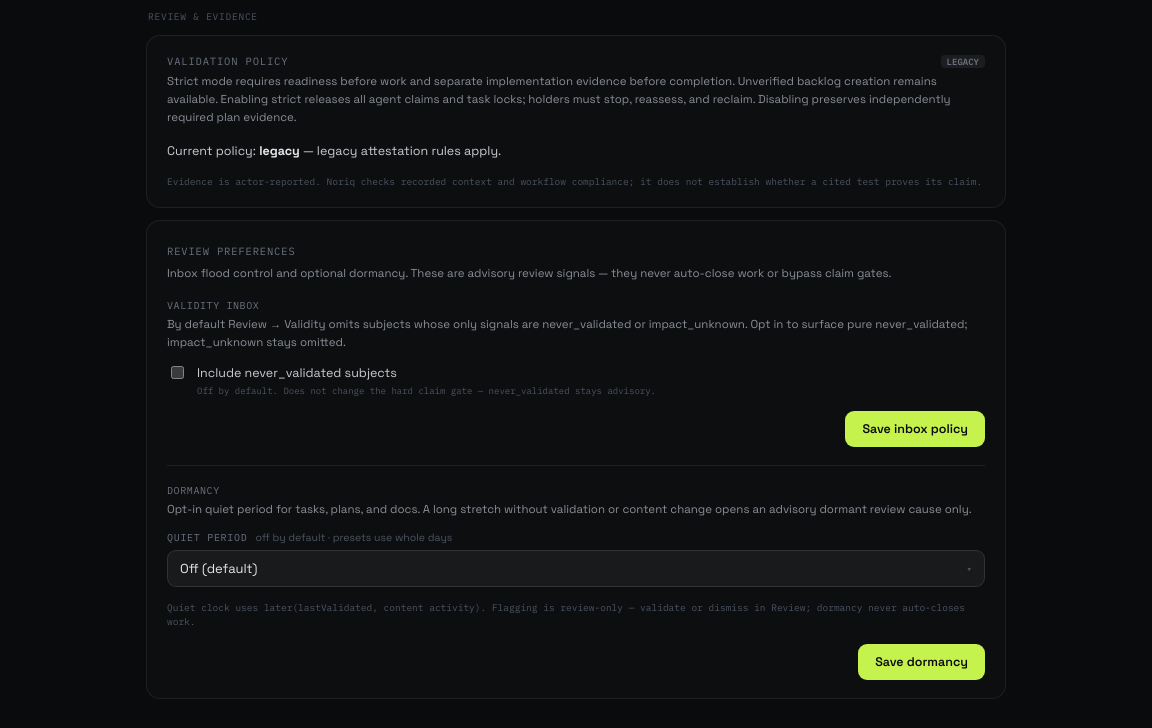
ProjectSettingsView (PLNR-401) › saves inboxIncludeNeverValidated via the existing meta PATCH (PLNR-597)
(page scrolled)
Click the checkbox named "Include never_validated in Validity inbox": (178, 372) top-left (171, 366), bottom-right (184, 379)
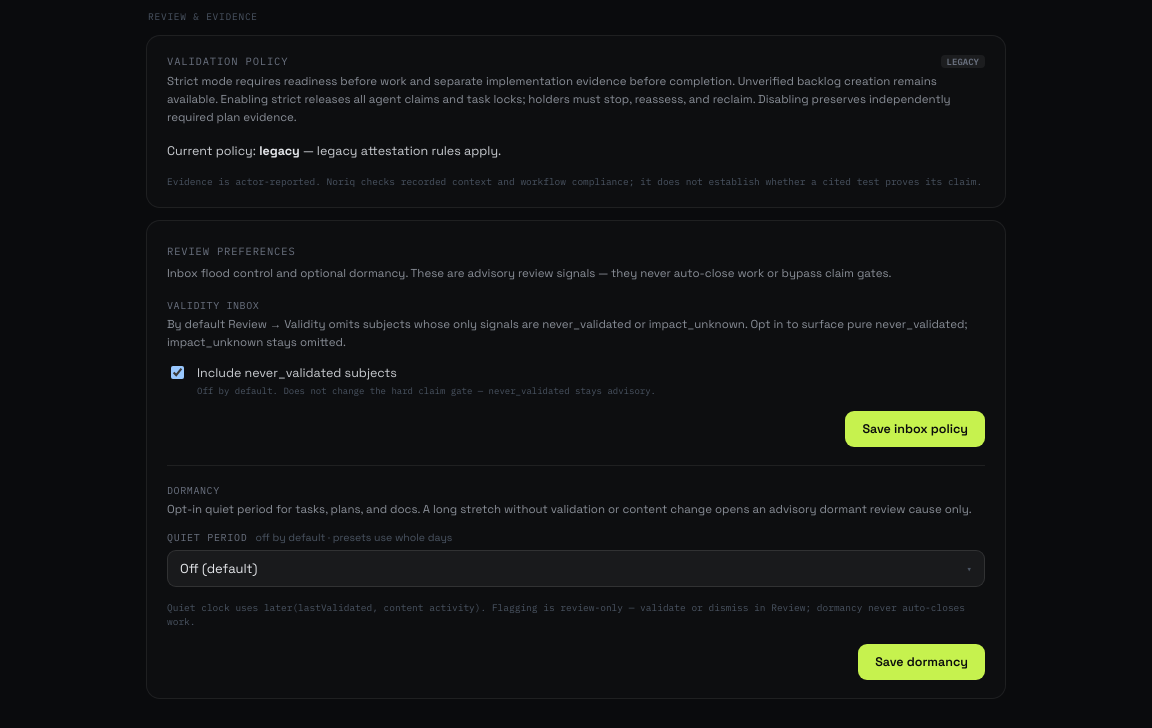
Click the button "Save inbox policy": (915, 429) top-left (845, 411), bottom-right (985, 447)
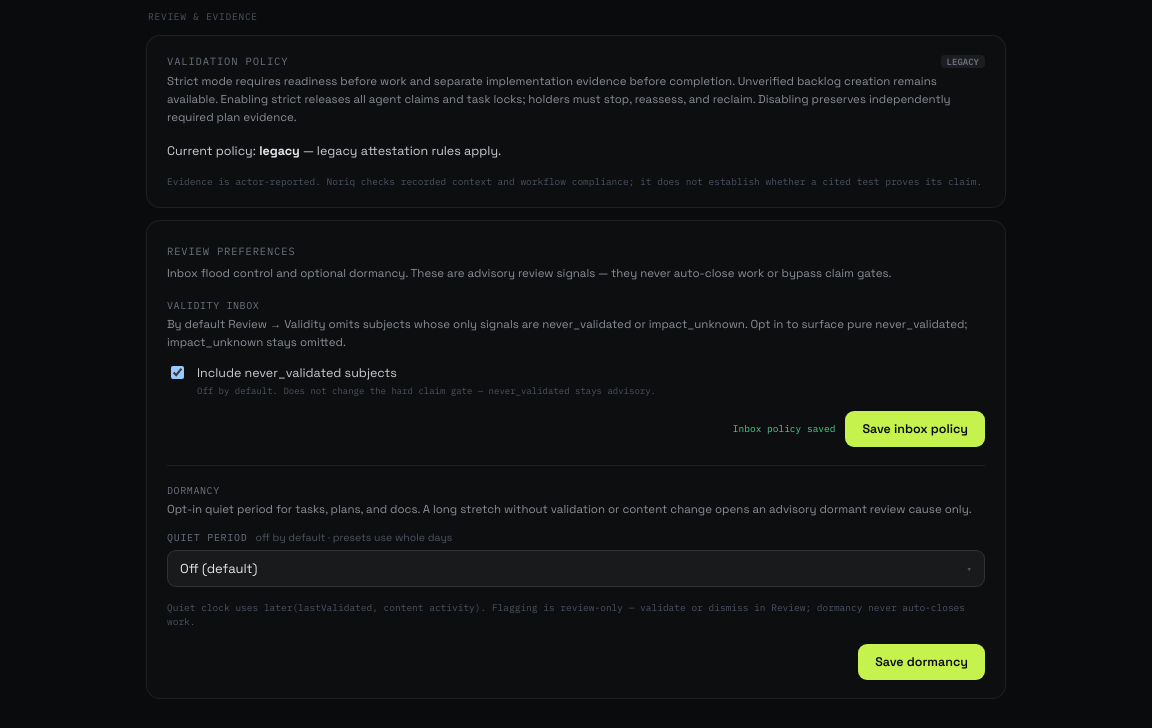
Check: the text "Inbox policy saved" is shown, box top-left (733, 422), bottom-right (835, 435)
